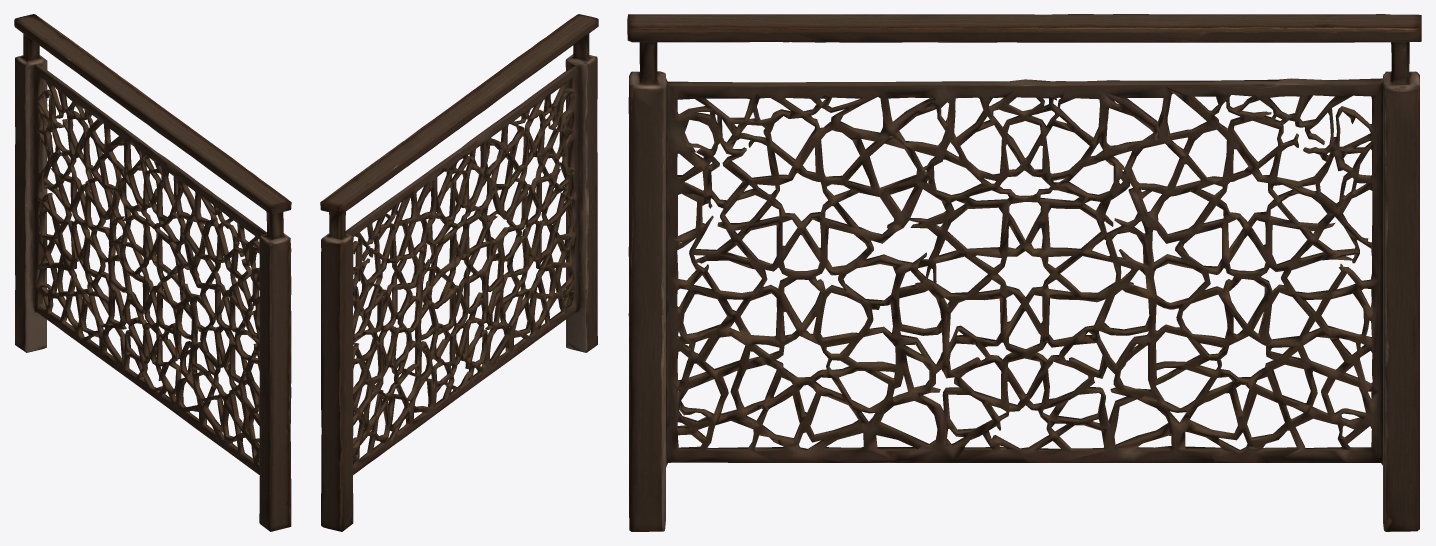
Rendered from balcrail.glb.
3 renders of one model, left to right at view 1: azimuth 30°, elevation 25°; view 2: azimuth 150°, elevation 25°; view 3: azimuth 270°, elevation 25°, orthographic. The views are drawn at different scales.
Parts seen in each view (by area): view 1: tripo_node_59b3634f-7aed-4abb-b65b-6a26f1630ae5; view 2: tripo_node_59b3634f-7aed-4abb-b65b-6a26f1630ae5; view 3: tripo_node_59b3634f-7aed-4abb-b65b-6a26f1630ae5.
Boxes of the visible parts, bbox=[...] form: tripo_node_59b3634f-7aed-4abb-b65b-6a26f1630ae5: bbox=[14, 14, 291, 531]; tripo_node_59b3634f-7aed-4abb-b65b-6a26f1630ae5: bbox=[320, 14, 598, 531]; tripo_node_59b3634f-7aed-4abb-b65b-6a26f1630ae5: bbox=[627, 14, 1421, 531].
Bounding box in the file's own units: 0.0721 × 0.9999 × 1.43.
Materials: 1 (1 with a texture image).
